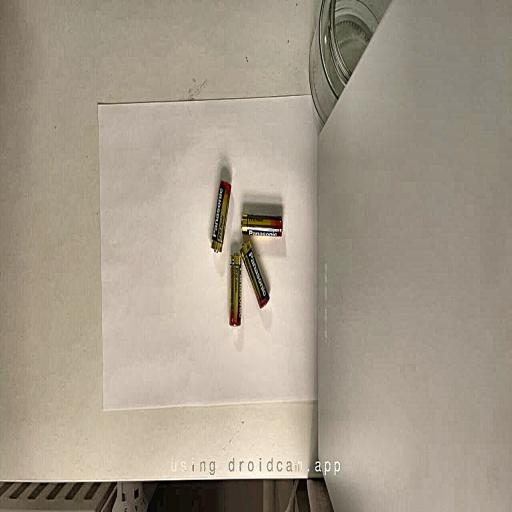PanasonicAA: (240, 238, 269, 308), (211, 181, 230, 252), (241, 213, 282, 237), (229, 252, 241, 326)
